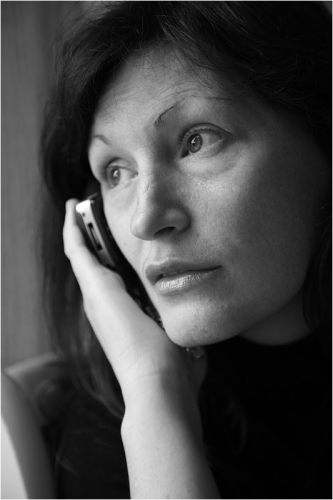phone: (52, 191, 124, 273)
talk: (56, 72, 282, 415)
